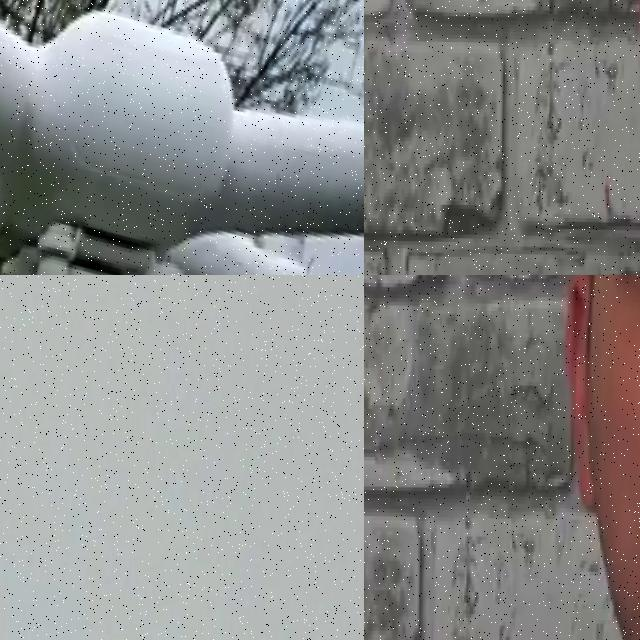drone: (0, 0, 364, 275)
